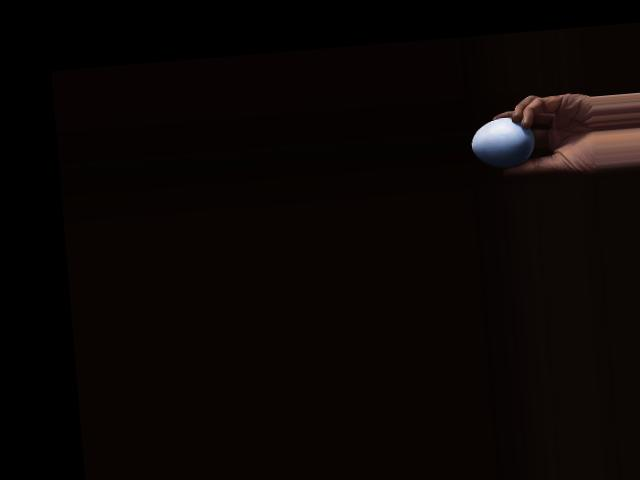egg: (468, 114, 535, 169)
